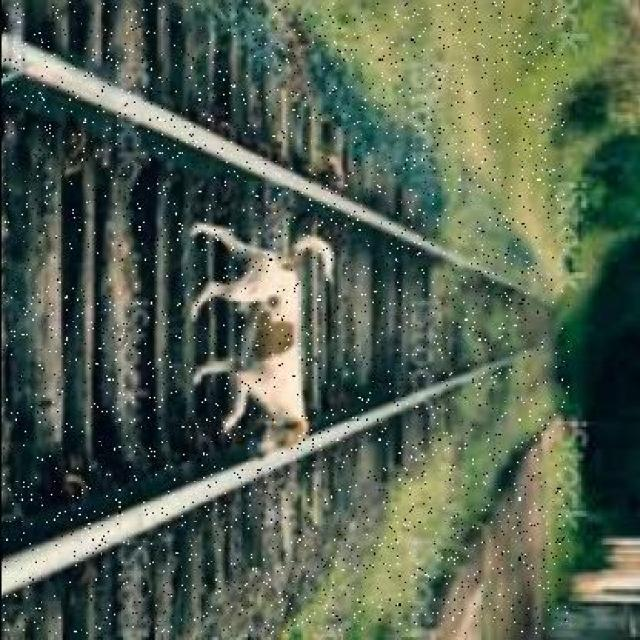danger: (186, 208, 309, 456)
rail: (0, 2, 567, 634)
